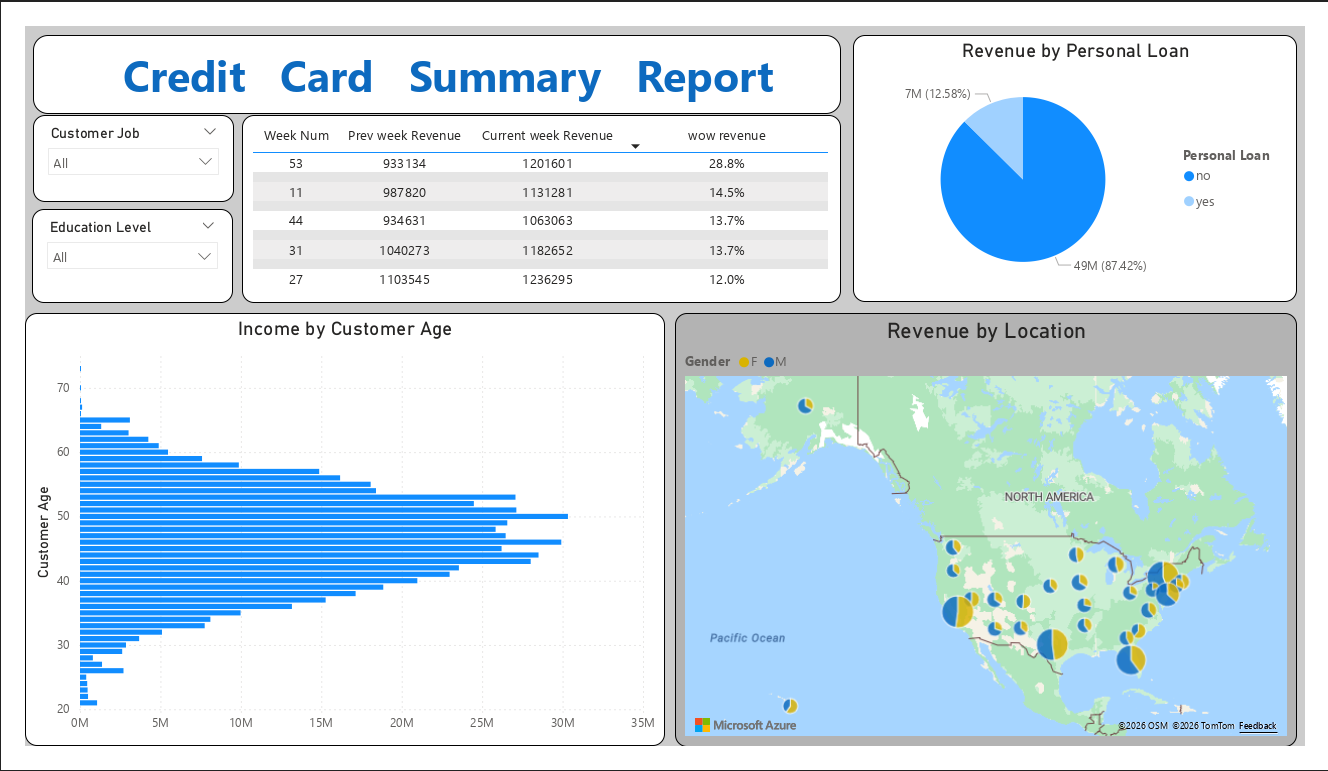

This screenshot's page, from the dashboard's own definition file:
{"tool":"powerbi","page":{"name":"CC Summary Report","canvas":[1280,720],"ordinal":0},"visuals":[{"type":"barChart","title":"Income by Customer Age","fields":{"Y":["Sum(cust_detail.Income)"],"Category":["cust_detail.Customer_Age"]},"box":[0,287.4,640,432.2],"z":0},{"type":"tableEx","fields":{"Values":["cc_detail.Week_num2","cc_detail.Previous_week_Revenue","cc_detail.Current_week_Revenue","cc_detail.wow_revenue"]},"box":[216.7,88.7,599.7,188.5],"z":1000},{"type":"pieChart","title":"Revenue by Personal Loan","fields":{"Y":["Sum(cc_detail.Revenue)"],"Category":["cust_detail.Personal_Loan"]},"box":[827.9,8.8,444.4,267.5],"z":2000},{"type":"azureMap","title":"Revenue by Location","fields":{"Category":["cust_detail.State_cd"],"Size":["Sum(cc_detail.Revenue)"],"Series":["cust_detail.Gender"]},"box":[649.9,287.4,622.3,433.3],"z":3000},{"type":"slicer","fields":{"Values":["cust_detail.Customer_Job"]},"box":[8.1,88.7,200.6,87.7],"z":4000},{"type":"slicer","fields":{"Values":["cust_detail.Education_Level"]},"box":[7.1,183.4,200.6,93.7],"z":5000},{"type":"textbox","box":[8.1,9.1,808.3,78.6],"z":6000}]}

Visuals, with their boxes in screenshot pixels (x1, y1, x2, y2):
"Income by Customer Age" barChart: <box>31,308,663,734</box>
tableEx - cc_detail.Week_num2 x cc_detail.Previous_week_Revenue: <box>245,112,837,298</box>
"Revenue by Personal Loan" pieChart: <box>848,33,1287,297</box>
"Revenue by Location" azureMap: <box>672,308,1287,735</box>
slicer - cust_detail.Customer_Job: <box>39,112,237,198</box>
slicer - cust_detail.Education_Level: <box>38,205,236,298</box>
textbox: <box>39,33,837,111</box>
